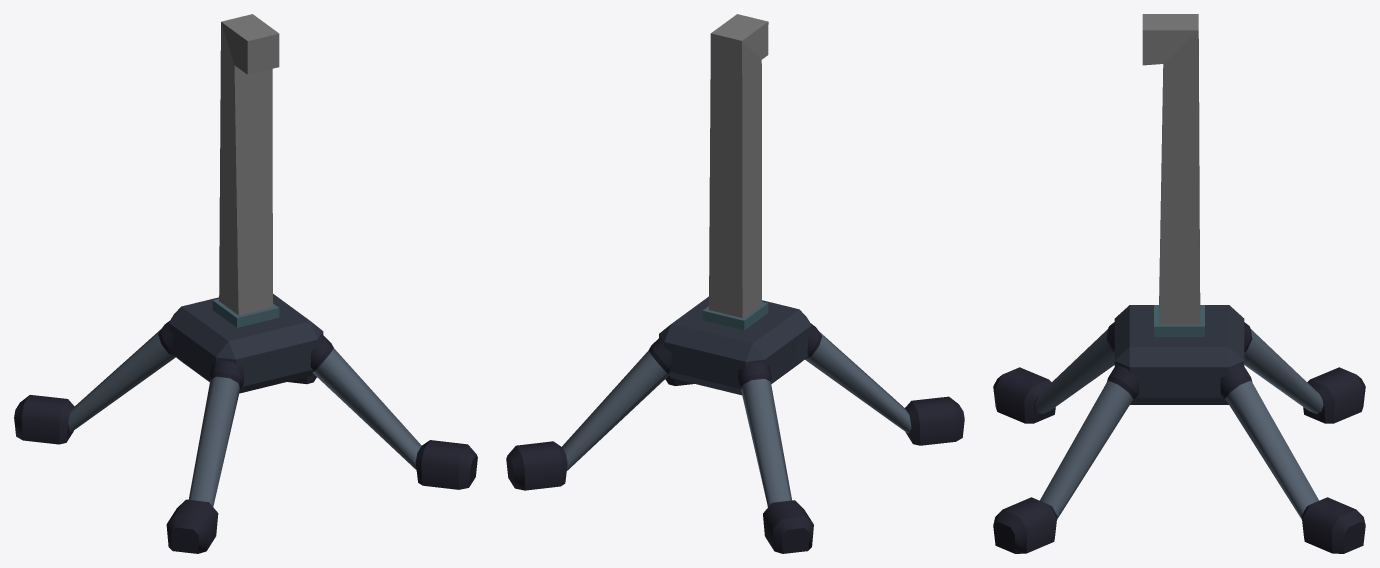
Rendered from SignHolder_2_A.fbx.
The picture shows the model from 3 angles, left to right: view 1: azimuth 30°, elevation 25°; view 2: azimuth 150°, elevation 25°; view 3: azimuth 270°, elevation 25°; orthographic projection. The views are drawn at different scales.
Visible parts, largest first — view 1: SignHolder_2_A; view 2: SignHolder_2_A; view 3: SignHolder_2_A.
Boxes of the visible parts, left/top/right/bottom form: SignHolder_2_A: left=14, top=14, right=477, bottom=553; SignHolder_2_A: left=506, top=14, right=964, bottom=553; SignHolder_2_A: left=993, top=14, right=1365, bottom=553.
Size of the model in its own units: 70.69 by 95.15 by 70.69.
